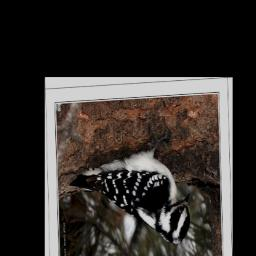Woodpecker: (64, 130, 190, 252)
